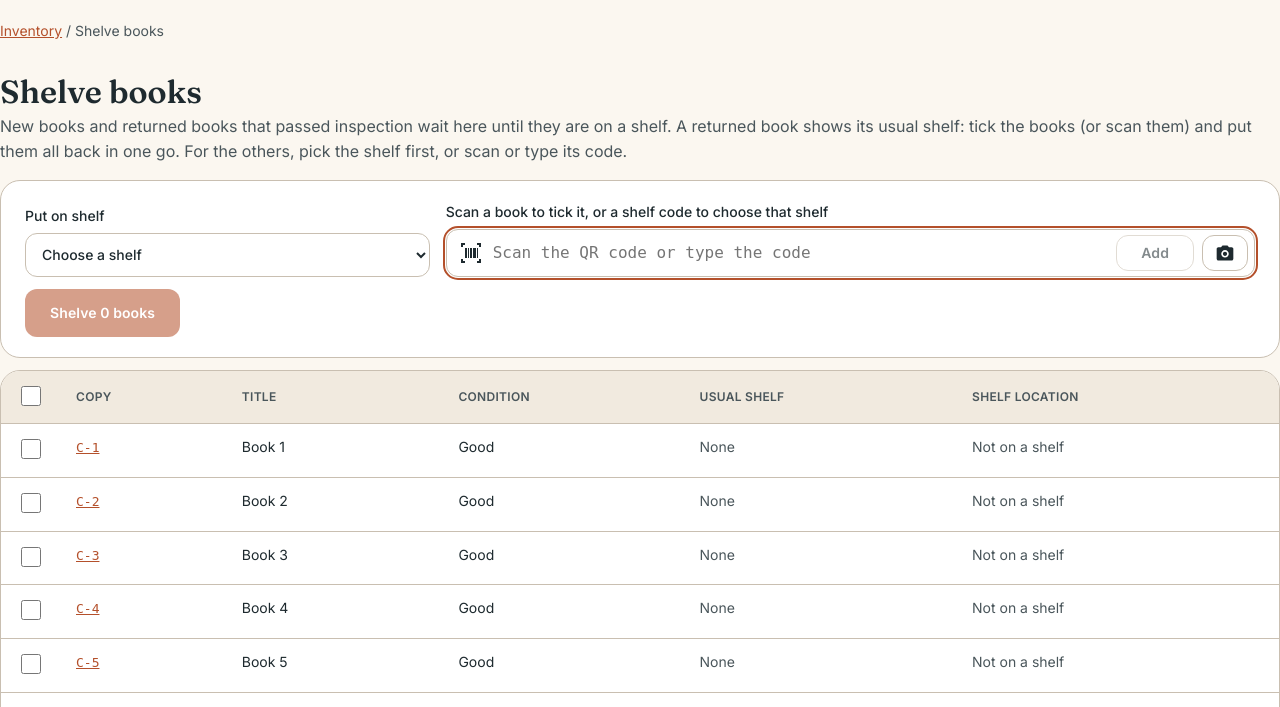
Shelve books › keeps the ticks when a shelf refuses, and reads the list again only when part of a long list may have gone on
Select "FIC-1 · Fiction" in the dropdown labelled "Put on shelf" at (227, 255), box x1=25 y1=233 x2=430 y2=277
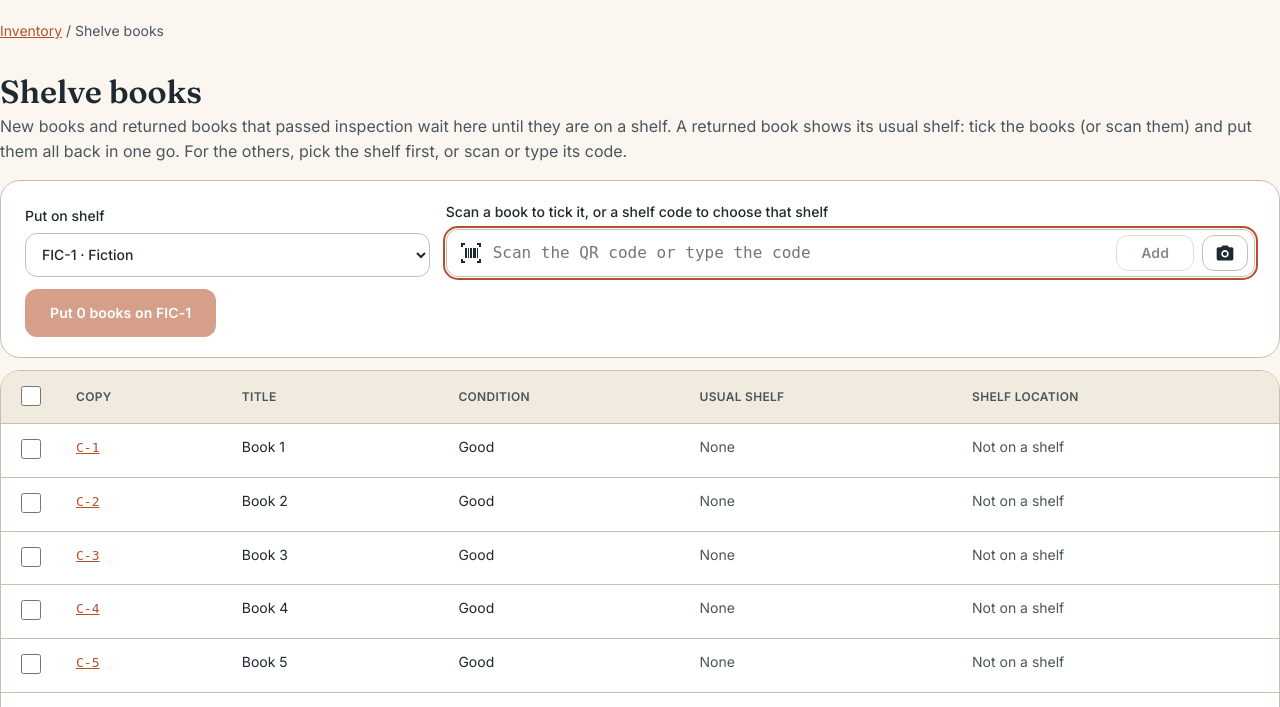
Click the checkbox named "Select C-1".
click(31, 449)  # box x1=21 y1=439 x2=41 y2=459
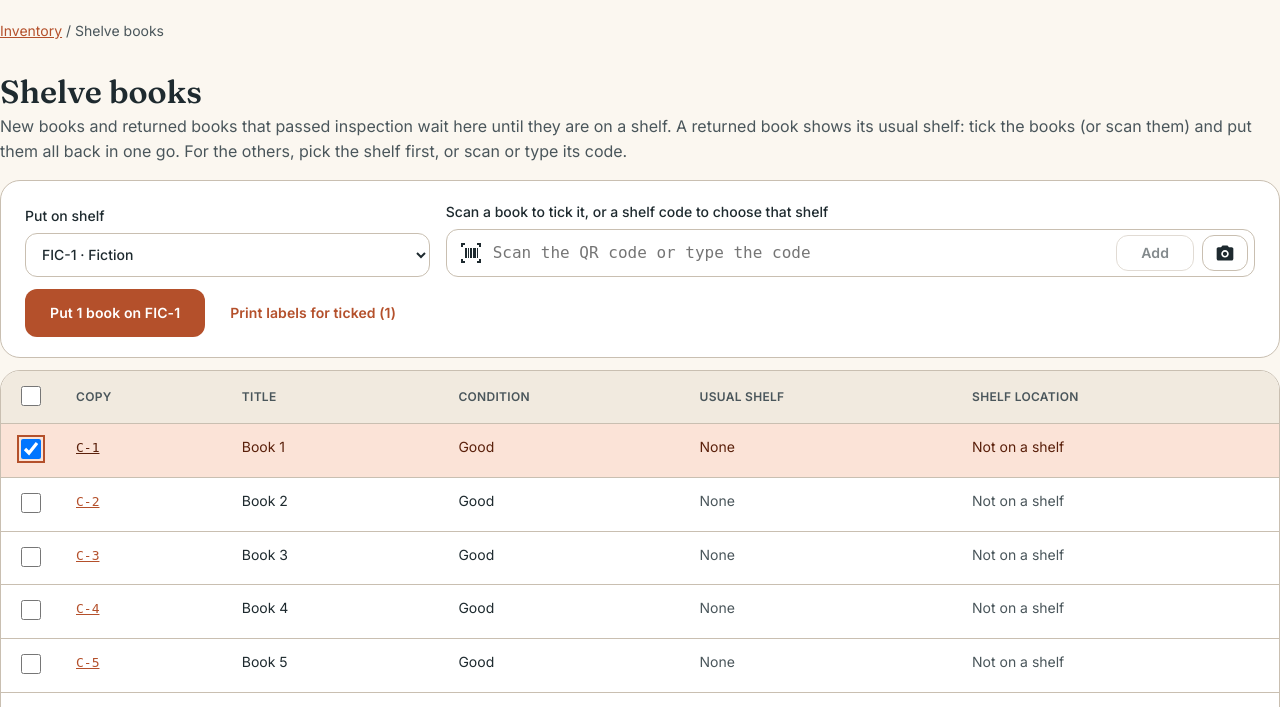
Click the button "Put 1 book on FIC-1".
click(115, 313)  # box x1=25 y1=289 x2=205 y2=337
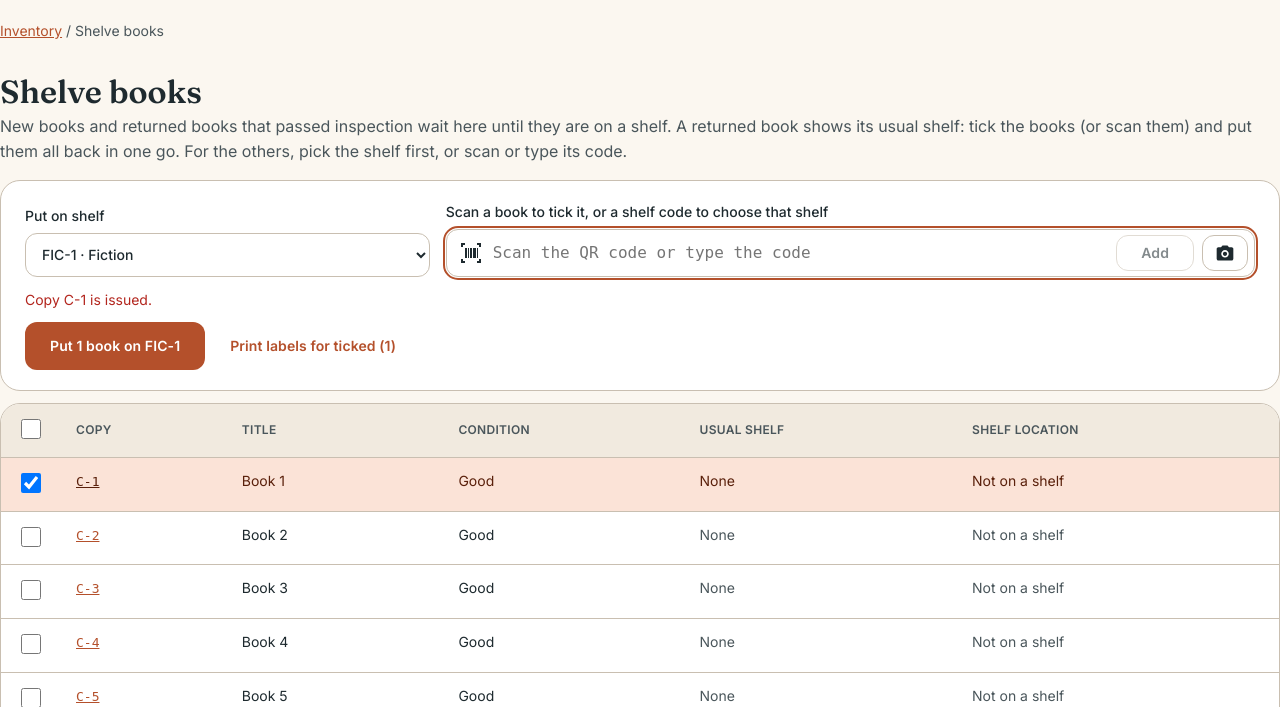
expect the text "Copy C-1 is issued." is shown: met, box x1=25 y1=291 x2=152 y2=308
Click the checkbox named "Select all".
click(31, 430)  # box x1=21 y1=420 x2=41 y2=440
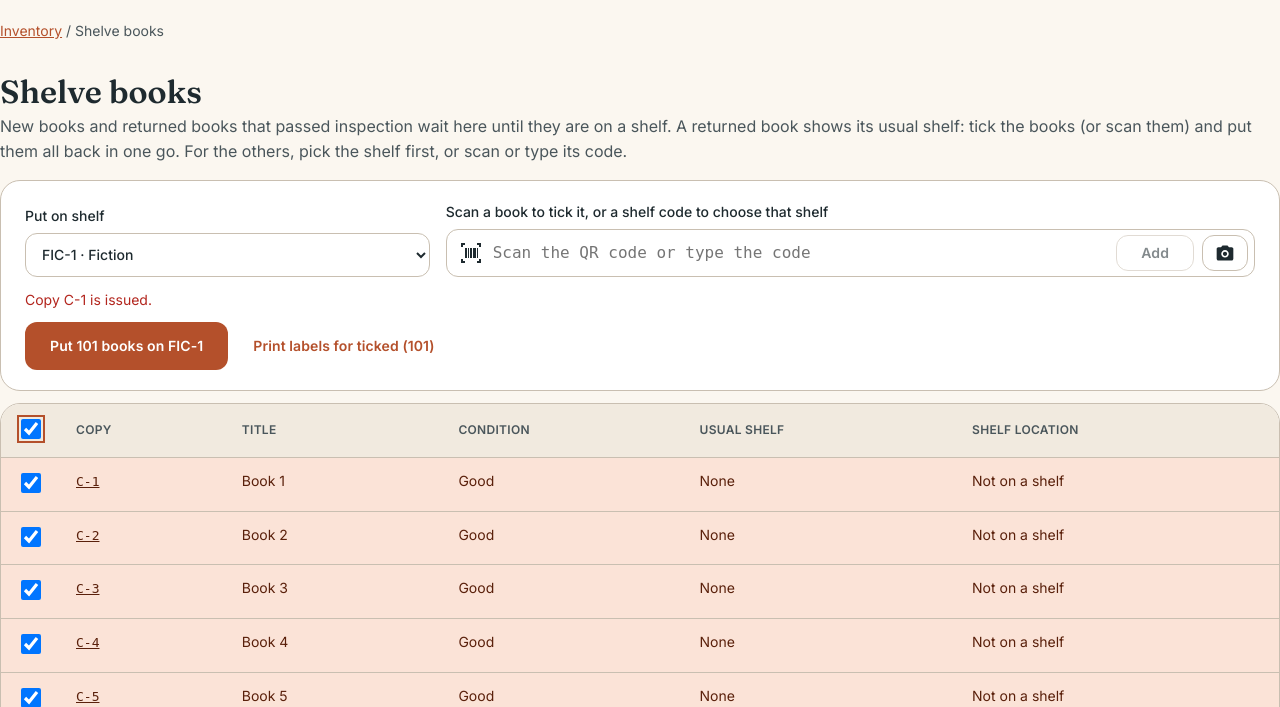
Click the button "Put 101 books on FIC-1".
click(127, 346)  # box x1=25 y1=322 x2=228 y2=370
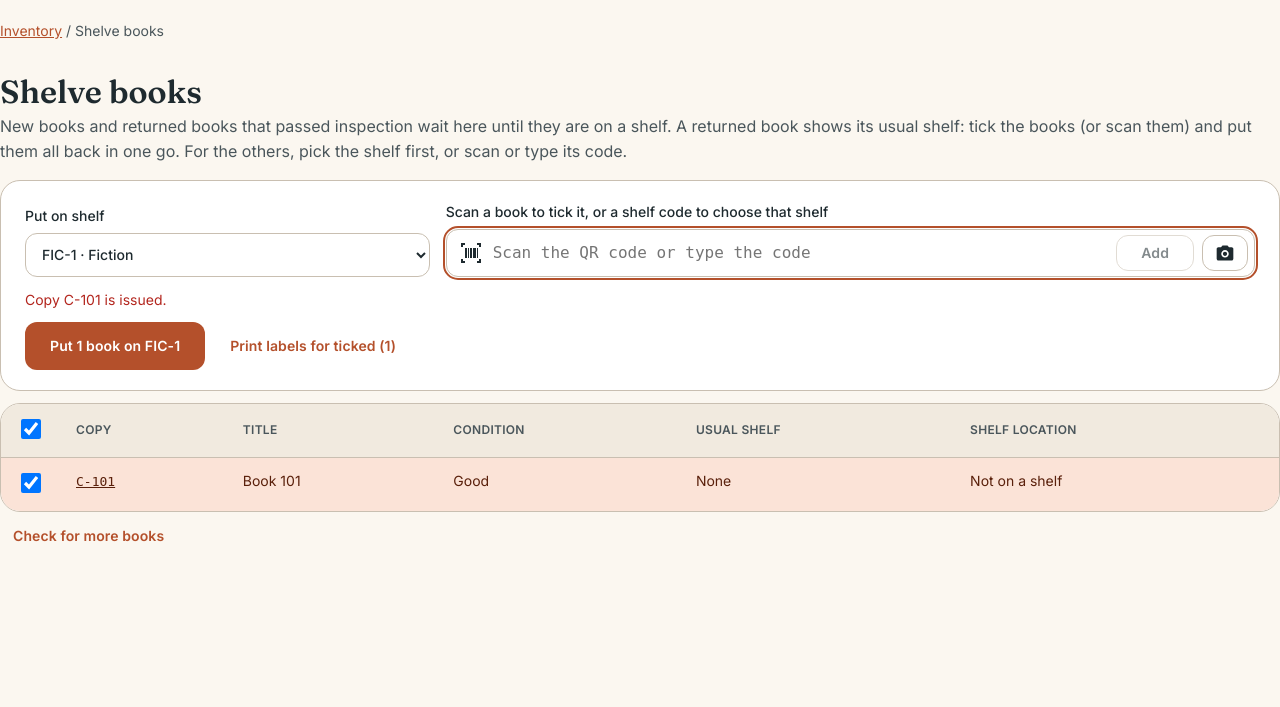
expect the text "Copy C-101 is issued." is shown: met, box x1=25 y1=291 x2=166 y2=308
